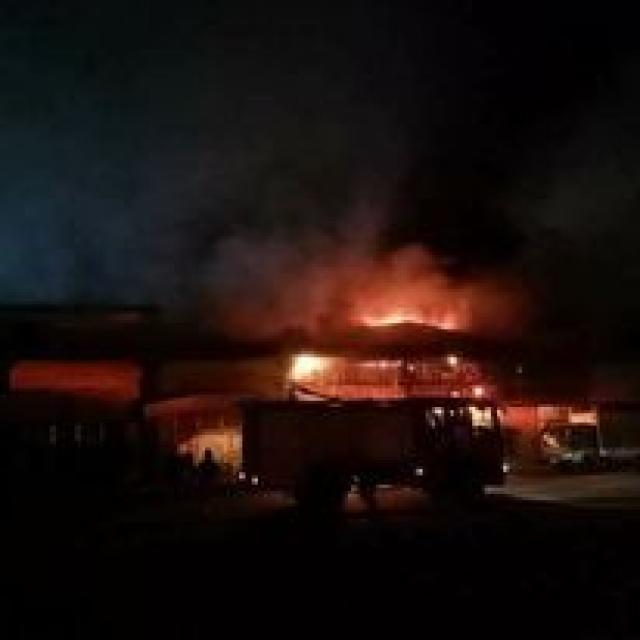Fire: (344, 296, 469, 334), (278, 343, 346, 392), (449, 368, 497, 432)
Smoke: (145, 4, 449, 332), (480, 134, 640, 360)
